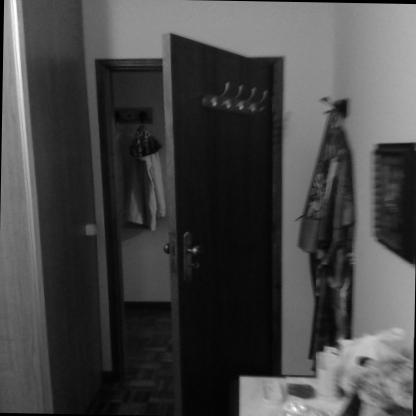semi: (74, 20, 292, 411)
